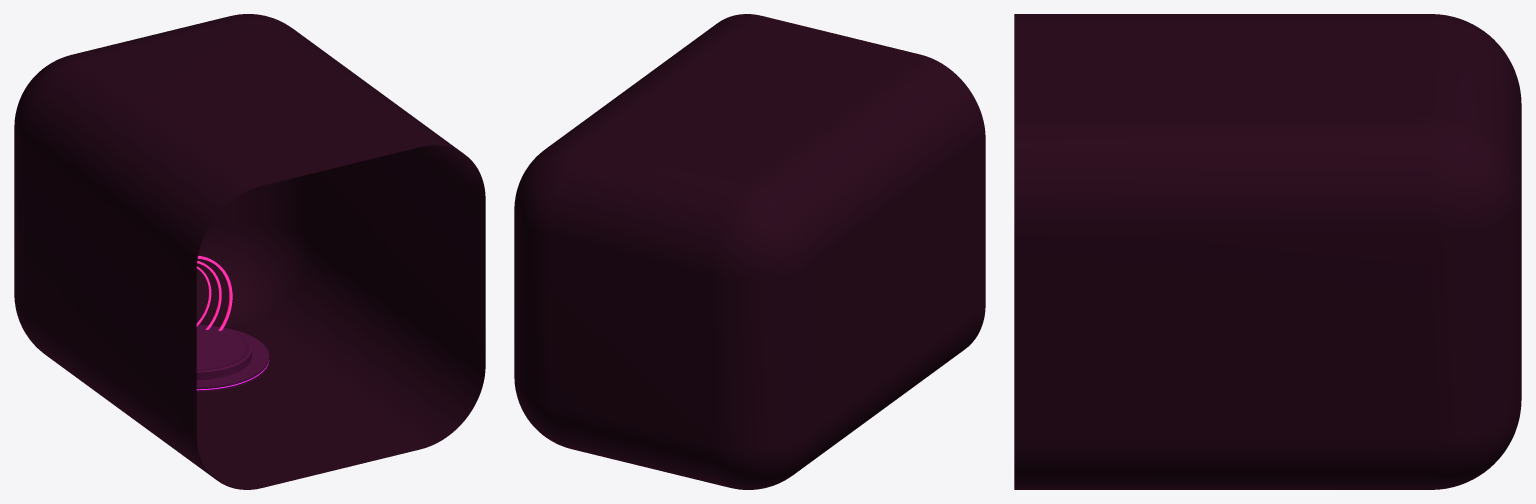
File: stage_alone[1].gltf
3 renders of one model, left to right at view 1: azimuth 30°, elevation 25°; view 2: azimuth 150°, elevation 25°; view 3: azimuth 270°, elevation 25°, orthographic. The views are drawn at different scales.
Parts seen in each view (by area): view 1: Cube, Cylinder.004, Cylinder.002; view 2: Cube; view 3: Cube.
Part boxes in pixels (left/top/right/bottom): Cube: left=14, top=14, right=485, bottom=489; Cylinder.004: left=196, top=325, right=251, bottom=379; Cylinder.002: left=196, top=326, right=269, bottom=389; Cube: left=514, top=14, right=985, bottom=489; Cube: left=1014, top=14, right=1521, bottom=489.
Bounding box in the file's own units: 7.74 × 7.87 × 9.73.
